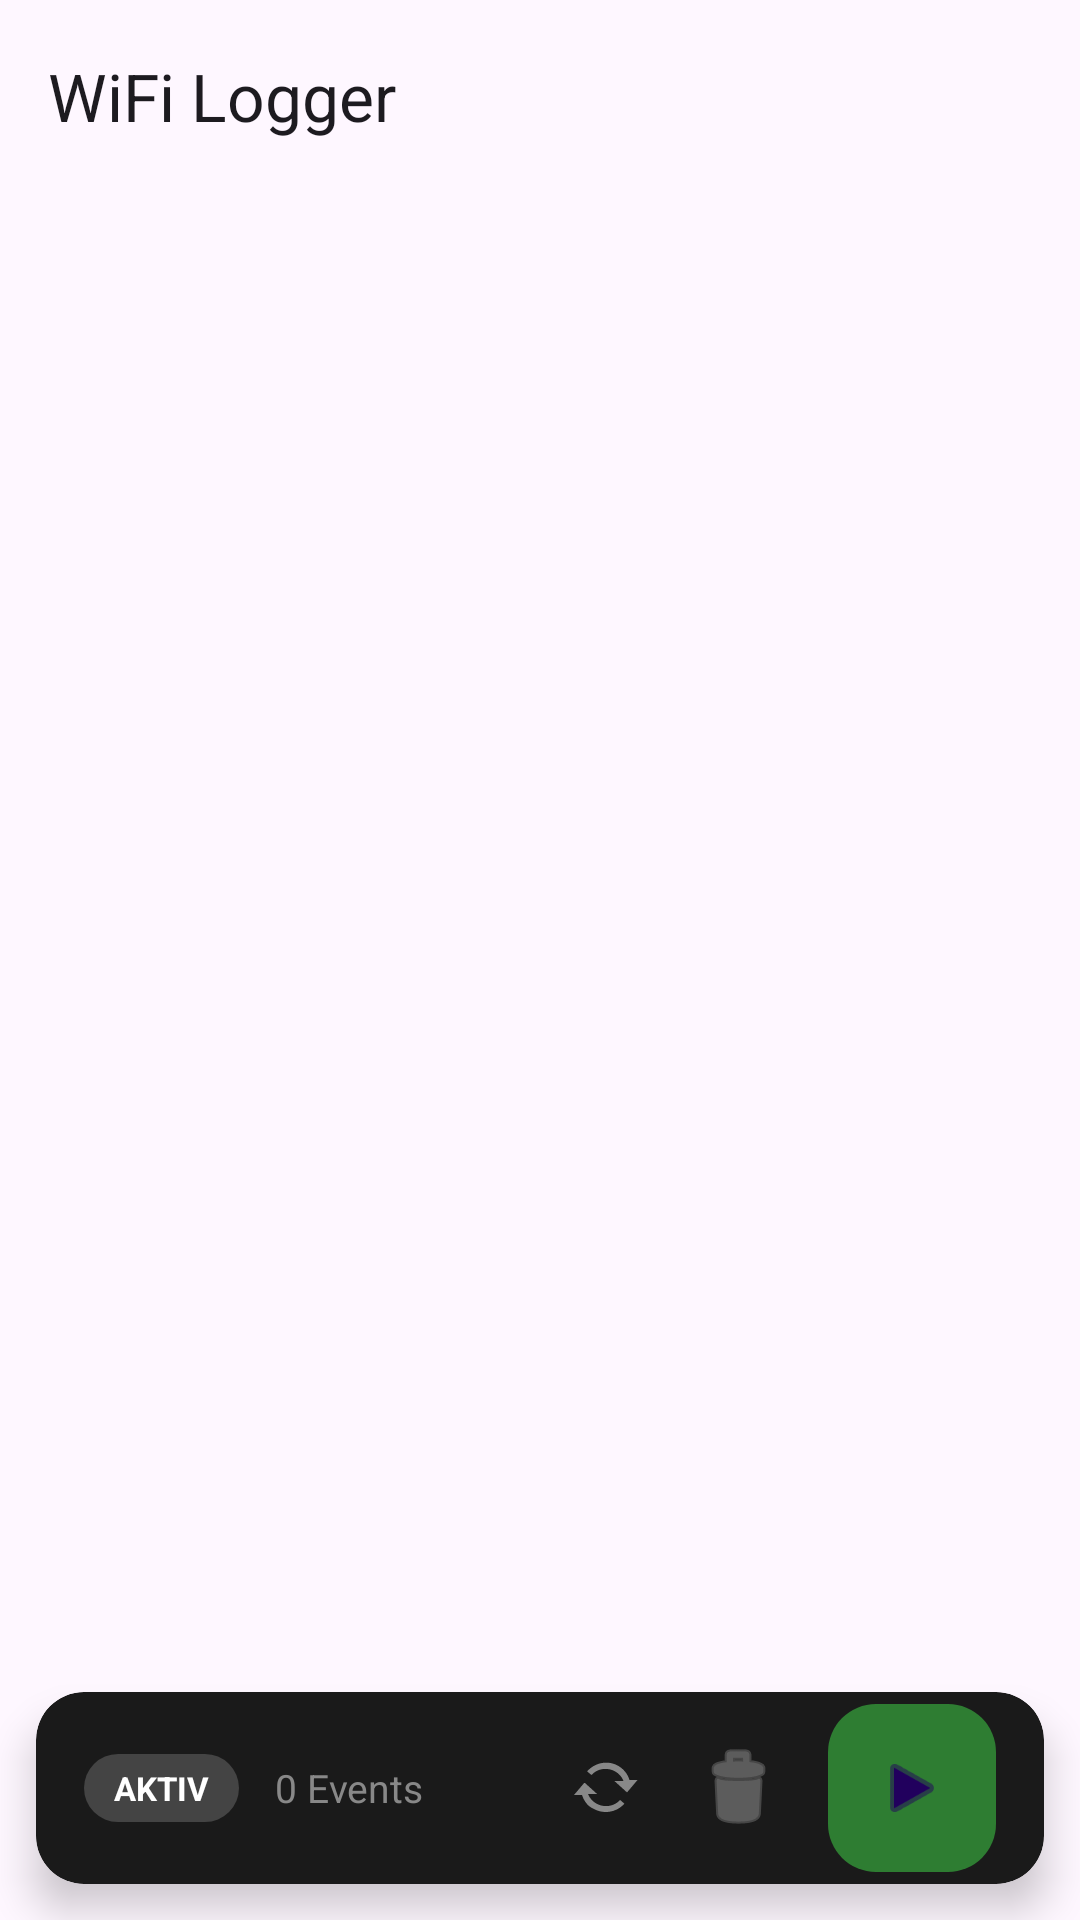

Screen size 1080w x 1920h. Icon name, then its box in pixels as (x1, y1, x2, y2):
delete: (712, 1749, 765, 1824)
play: (828, 1704, 996, 1872)
sync: (574, 1762, 637, 1812)
